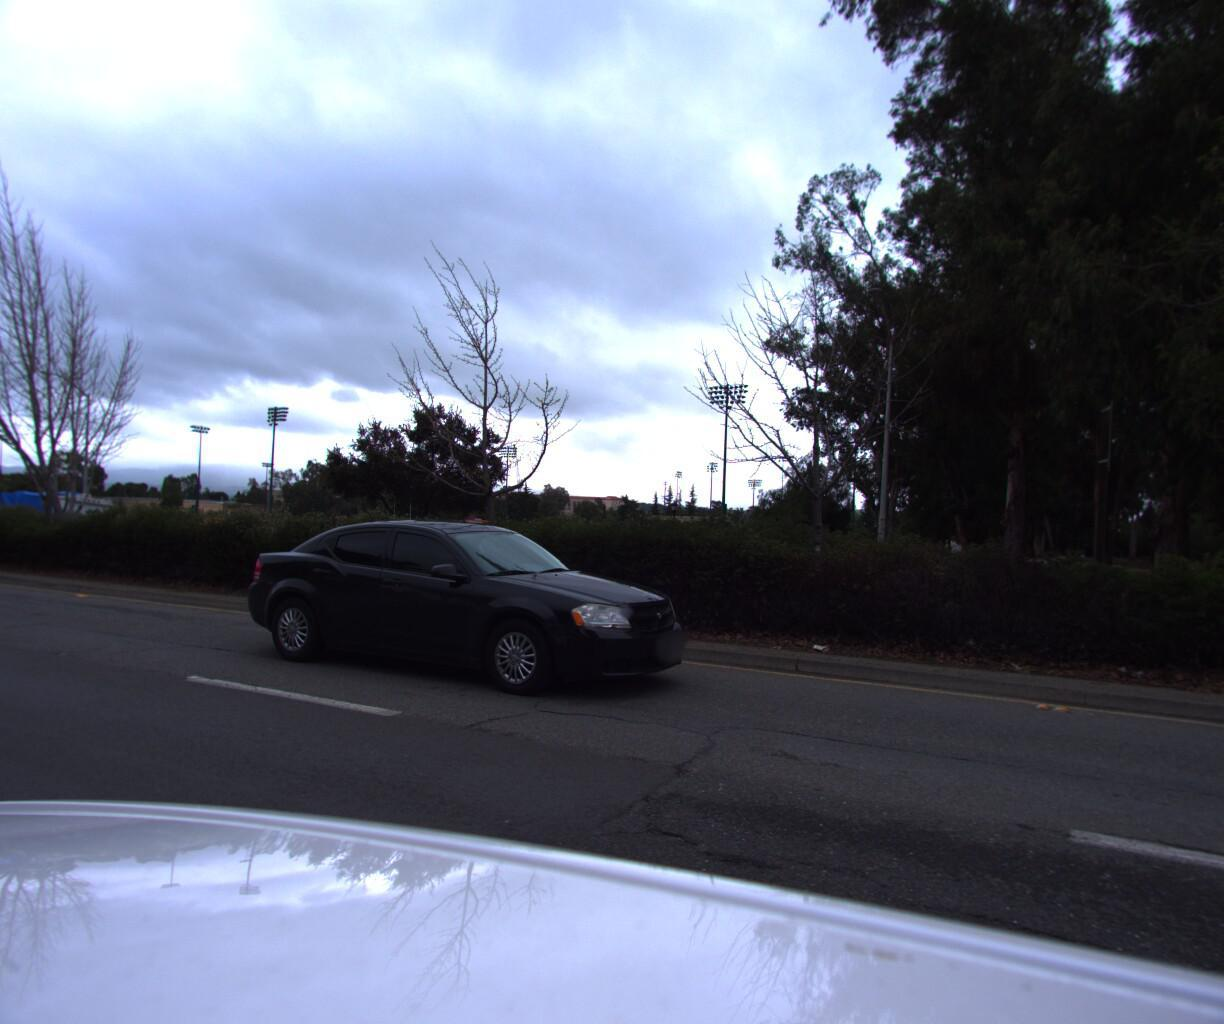car: (227, 526, 702, 725)
other_vehicle: (0, 490, 121, 558)
